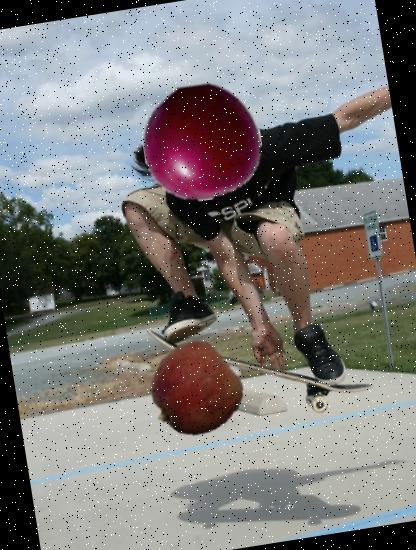Cherry: (134, 73, 270, 210)
Peach: (144, 338, 250, 442)
